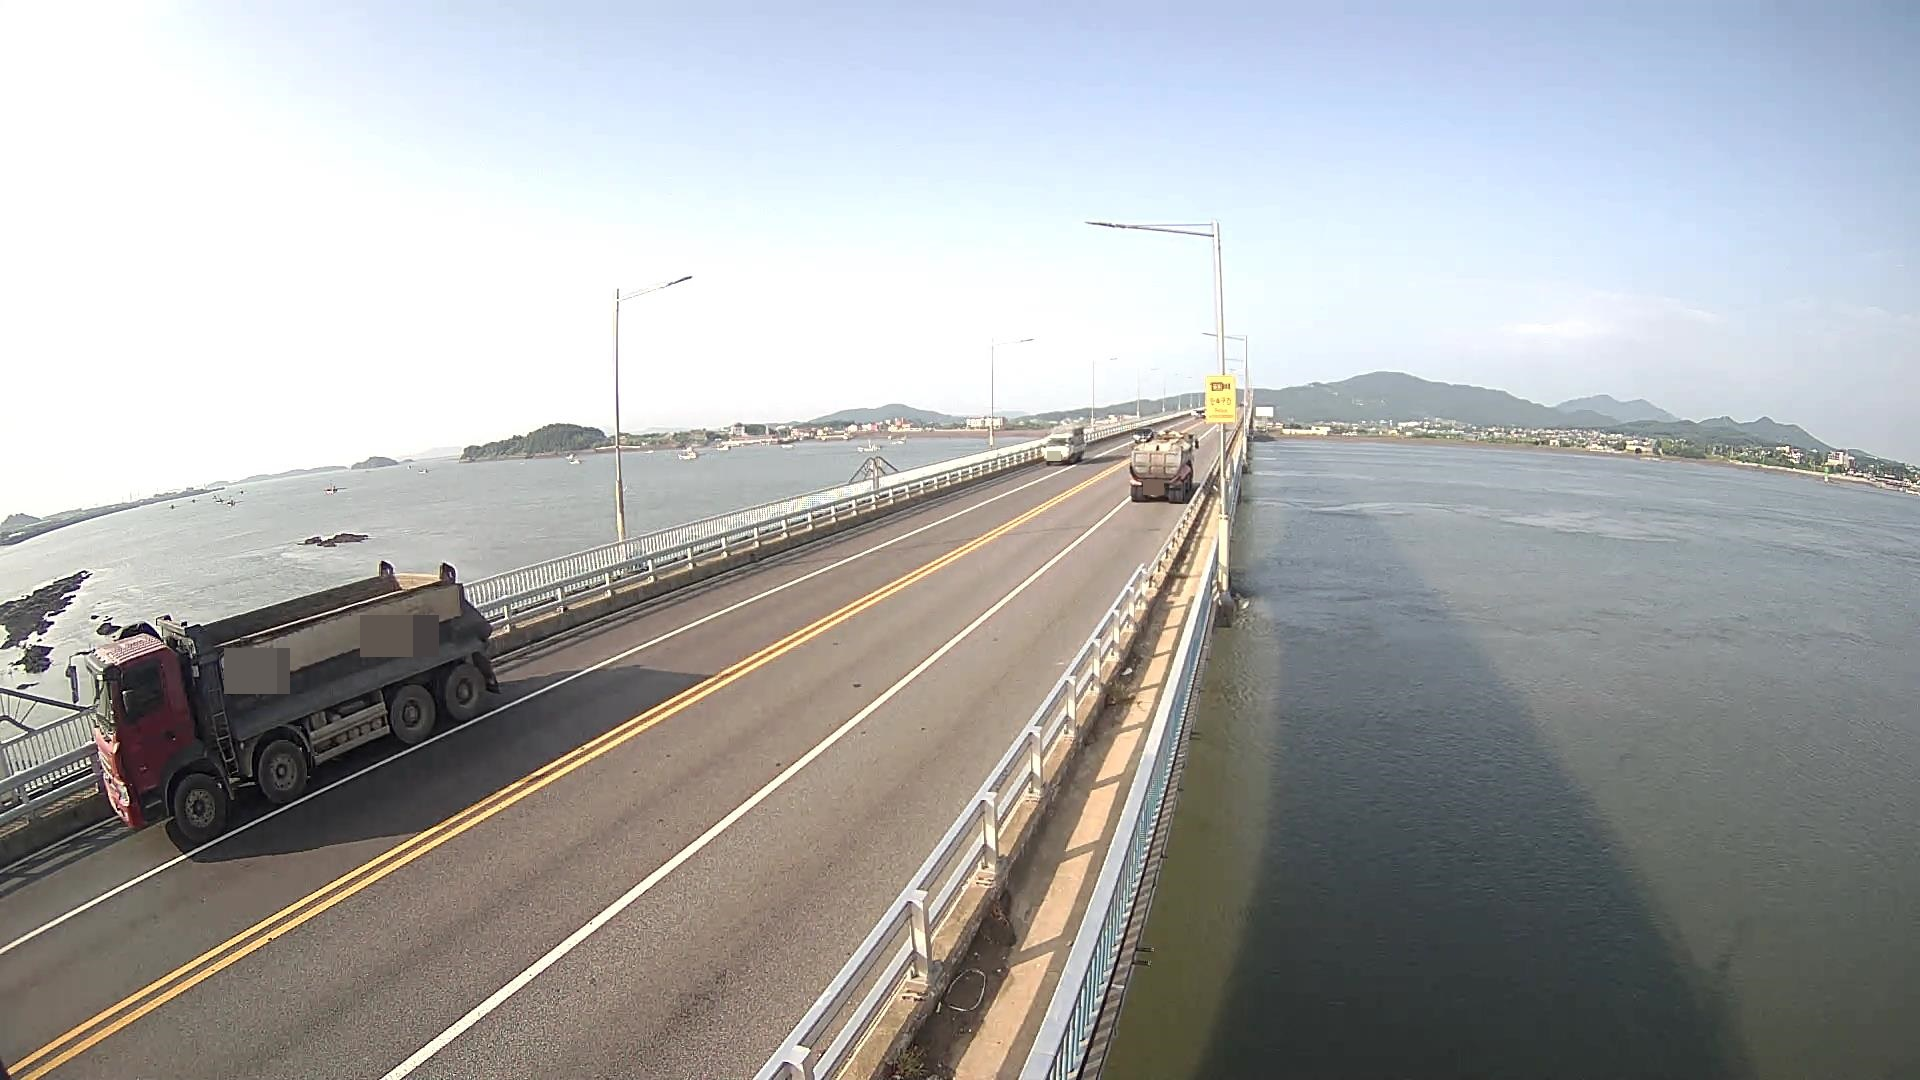정상차량: (66, 560, 501, 844)
